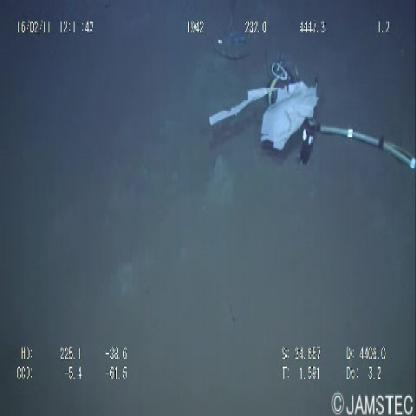Rác: (206, 68, 318, 151)
